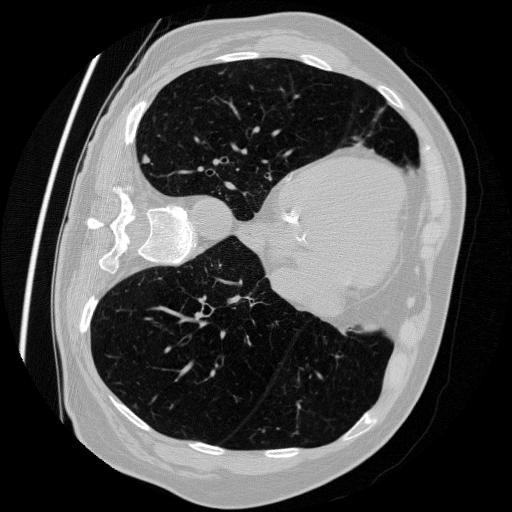nodule: (138, 153, 155, 170)
